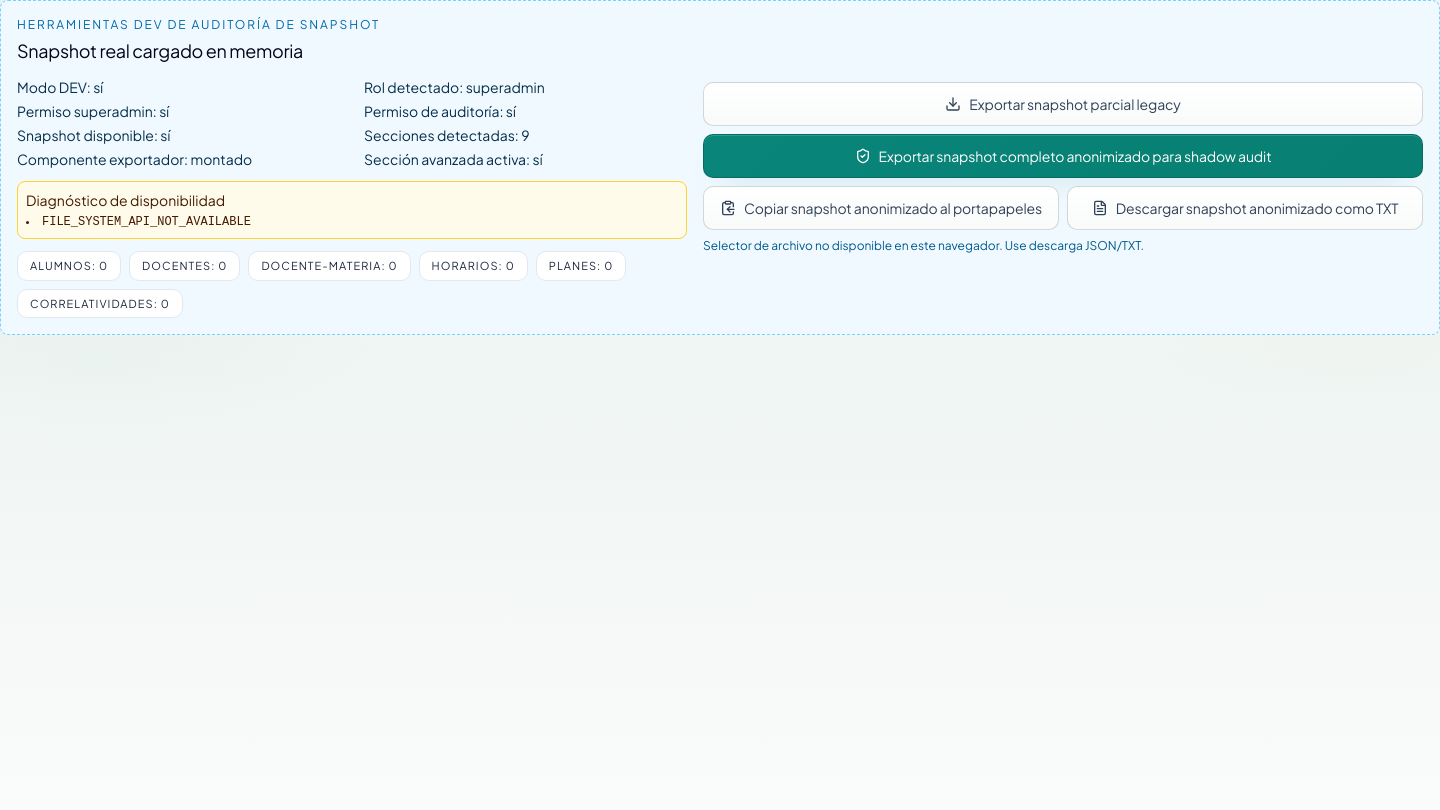
DevAuditSnapshotExport › ofrece TXT como canal de descarga alternativo
Click the button "Descargar snapshot anonimizado como TXT" at (1245, 208), box [1067,186,1423,230]
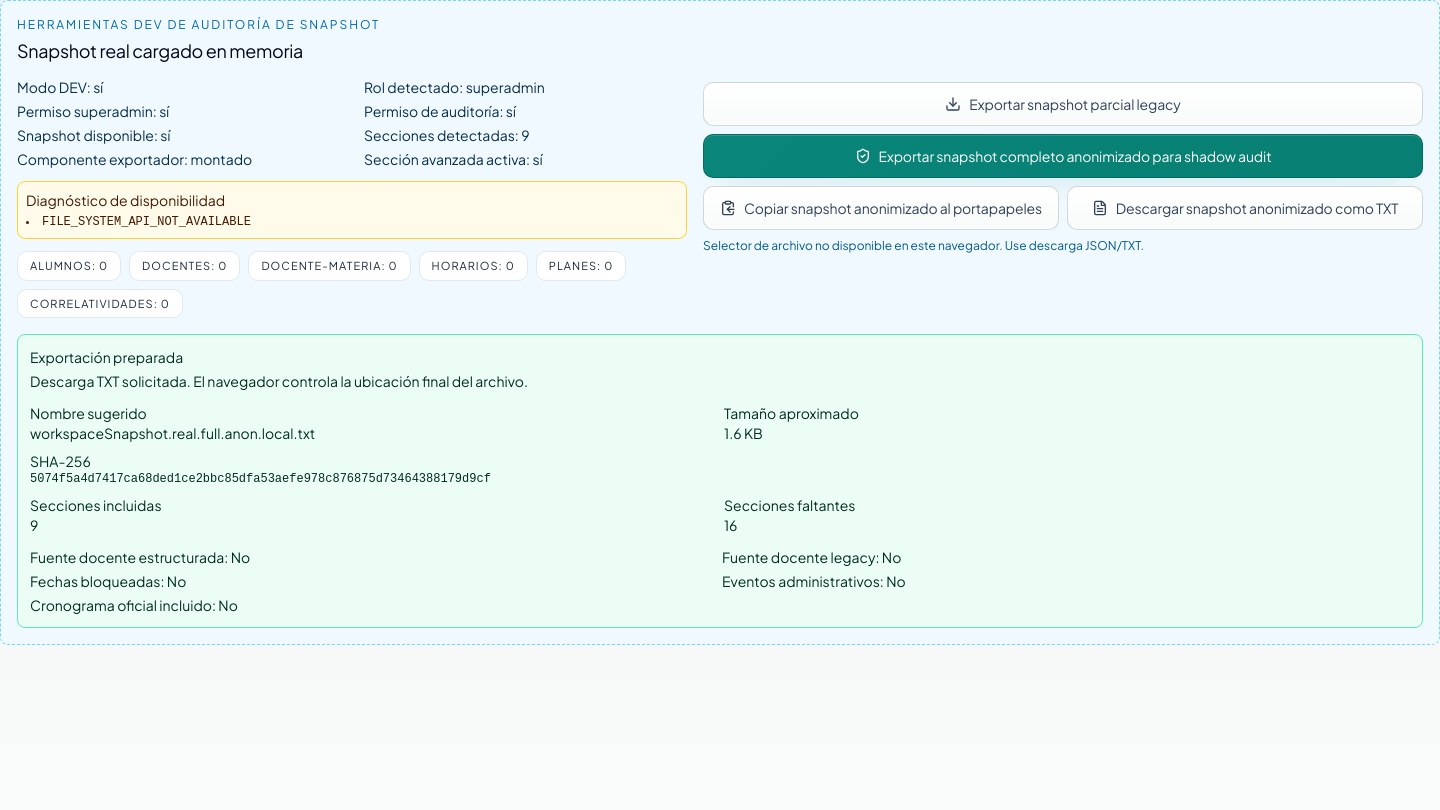
Expected: the text "workspaceSnapshot.real.full.anon.local.txt" is shown, [30,424,315,442]
